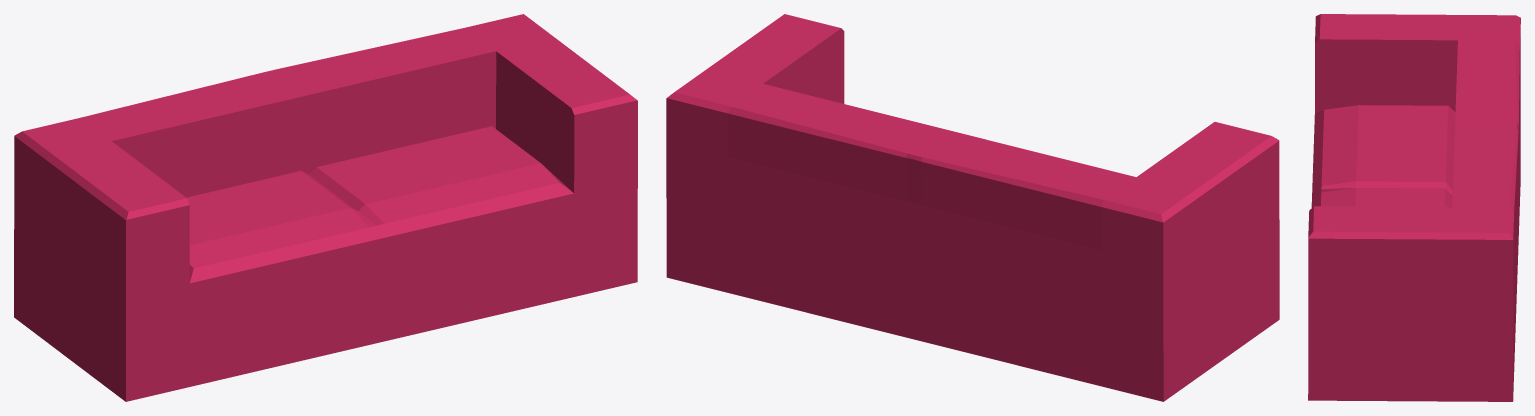
File: couch.fbx
The picture shows the model from 3 angles, left to right: view 1: azimuth 30°, elevation 25°; view 2: azimuth 150°, elevation 25°; view 3: azimuth 270°, elevation 25°; orthographic projection. The views are drawn at different scales.
Visible parts, largest first — view 1: Cube.001; view 2: Cube.001; view 3: Cube.001.
Part boxes in pixels (left/top/right/bottom): Cube.001: left=14, top=14, right=637, bottom=401; Cube.001: left=666, top=14, right=1279, bottom=401; Cube.001: left=1308, top=14, right=1520, bottom=401.
Bounding box in the file's own units: 662 × 233 × 267.
